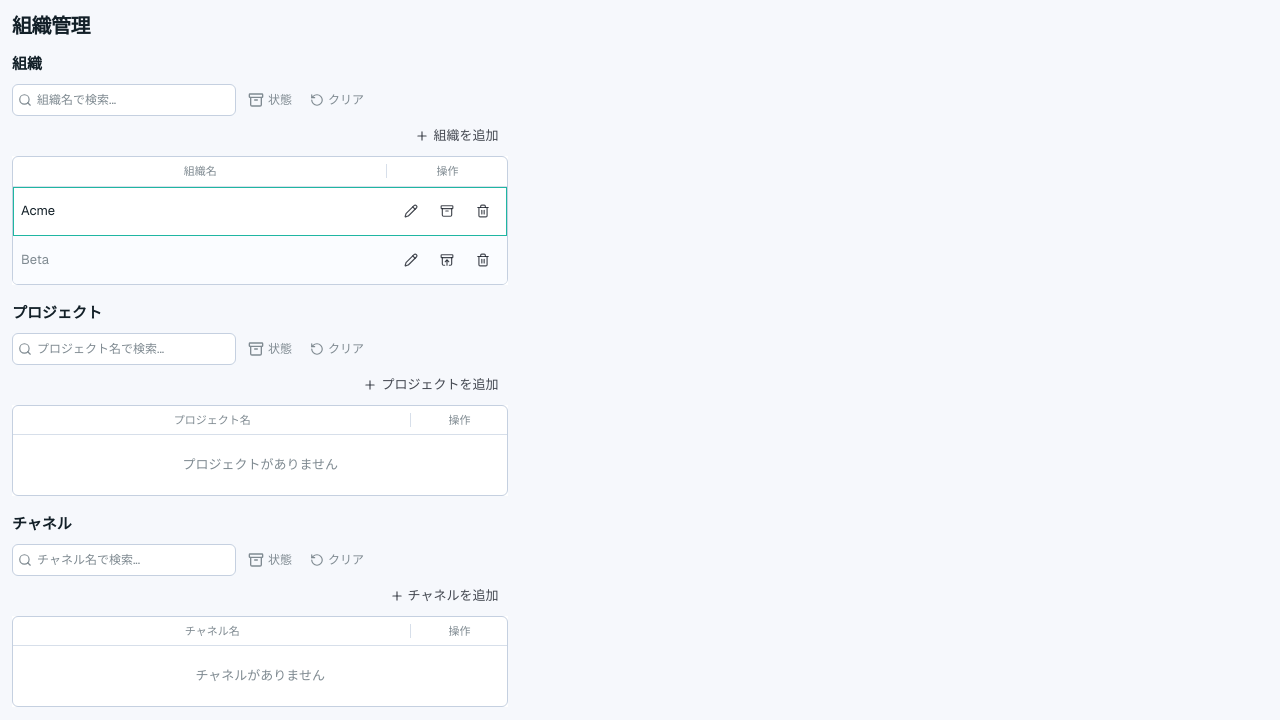
Test: OrganizationsScreen › アーカイブ確認をキャンセルすると実行されない（set-0058）
Click the button named "Acme をアーカイブ" at (447, 210), box [431,194,463,226]
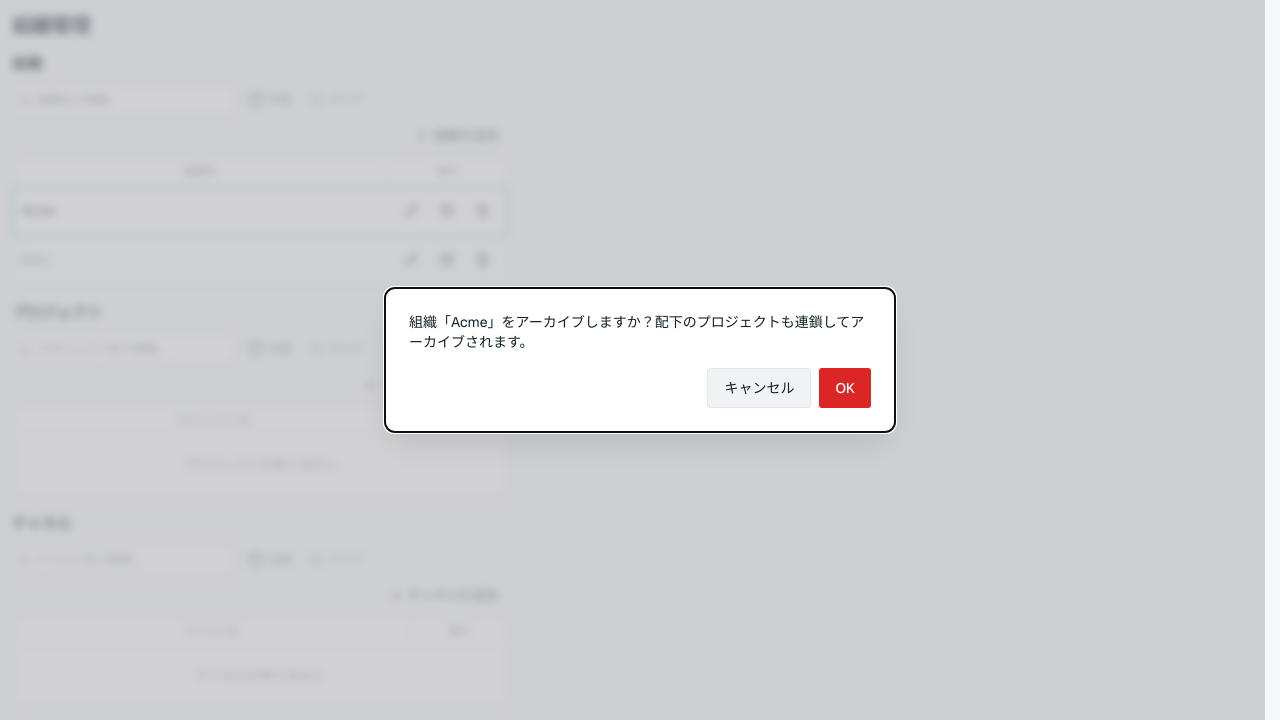
Check: the text "組織「Acme」をアーカイブしますか？配下のプロジェクトも連鎖してアーカイブされます。" is shown, box [409,312,871,352]
Click the button "キャンセル" at (760, 388), box [708,368,812,408]
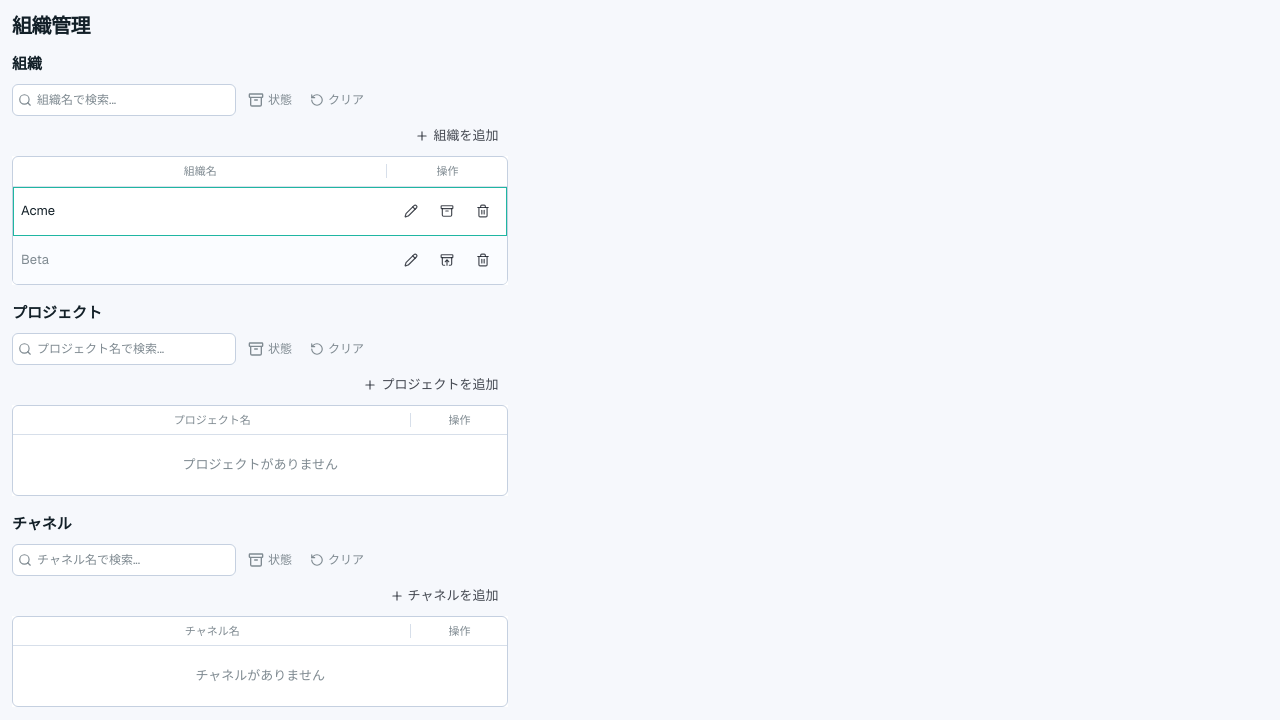
Check: the text "組織「Acme」をアーカイブしますか？配下のプロジェクトも連鎖してアーカイブされます。" is gone
